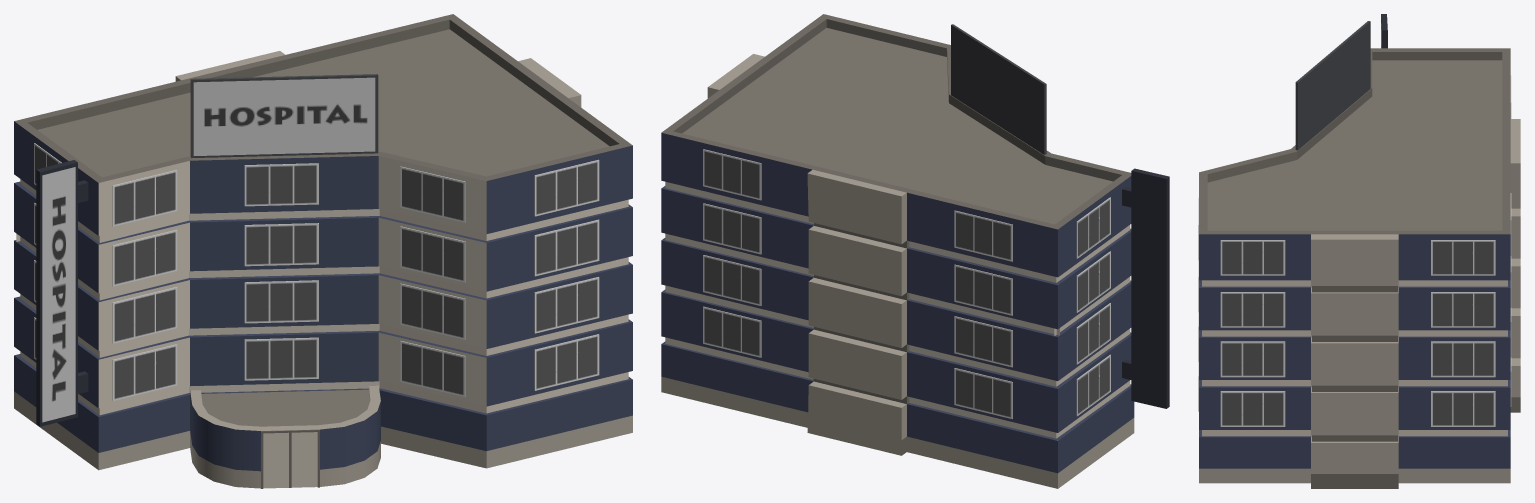
The model's file is hospital01_color03.fbx.
3 renders of one model, left to right at view 1: azimuth 30°, elevation 25°; view 2: azimuth 150°, elevation 25°; view 3: azimuth 270°, elevation 25°, orthographic. The views are drawn at different scales.
Parts seen in each view (by area): view 1: hospital01_color03; view 2: hospital01_color03; view 3: hospital01_color03.
Boxes of the visible parts, x1,y1,x2,y2 form: hospital01_color03: (14, 14, 632, 488); hospital01_color03: (661, 14, 1169, 488); hospital01_color03: (1198, 14, 1520, 488).
Bounding box in the file's own units: 2739 × 1907 × 1758.
